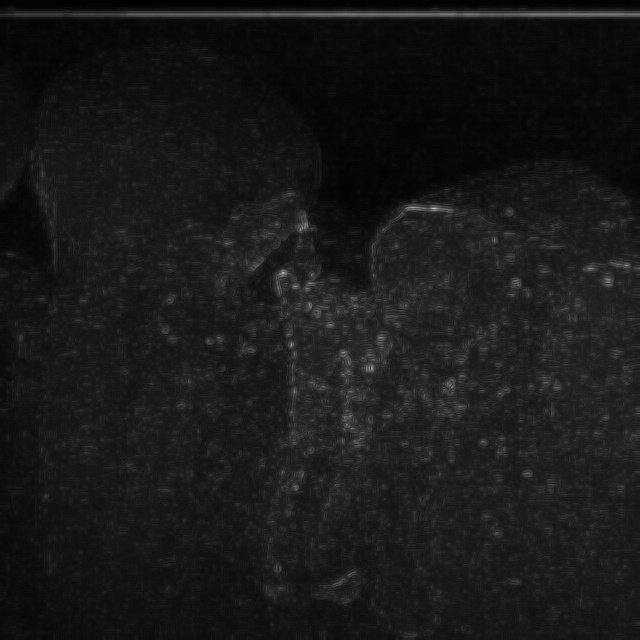Class 0- No endodontic treatment: (166, 185, 523, 623)
